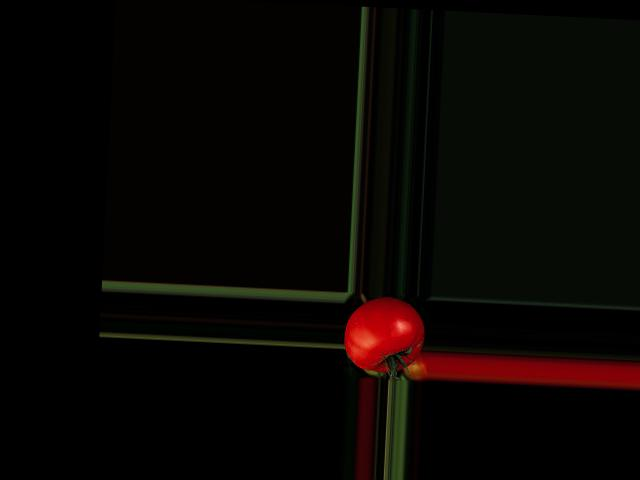tomato: (342, 294, 425, 373)
